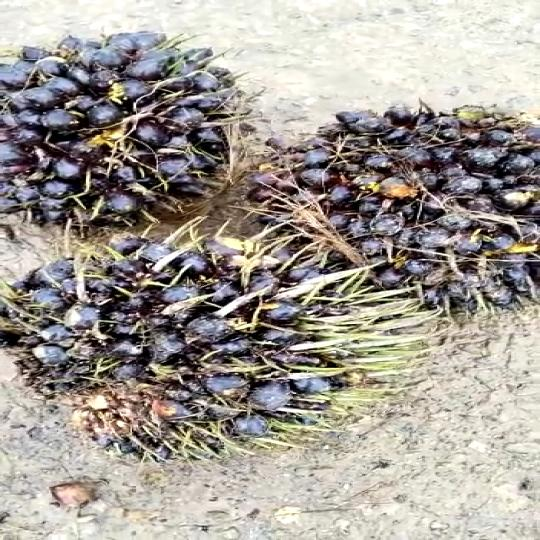mentah: (15, 239, 412, 471), (268, 105, 540, 301), (7, 32, 258, 228)
